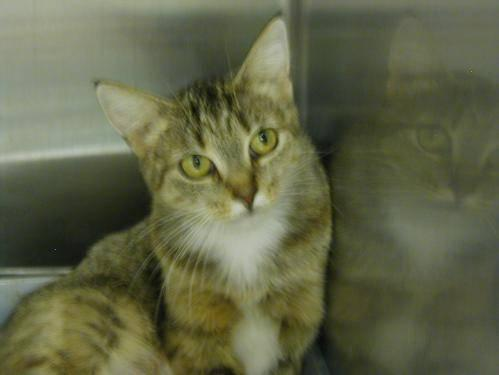cat: (0, 17, 332, 374)
